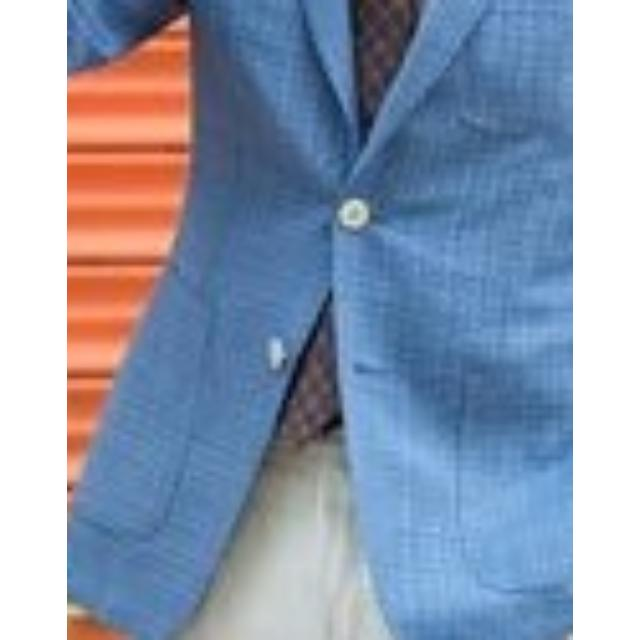linen: (67, 0, 573, 640)
